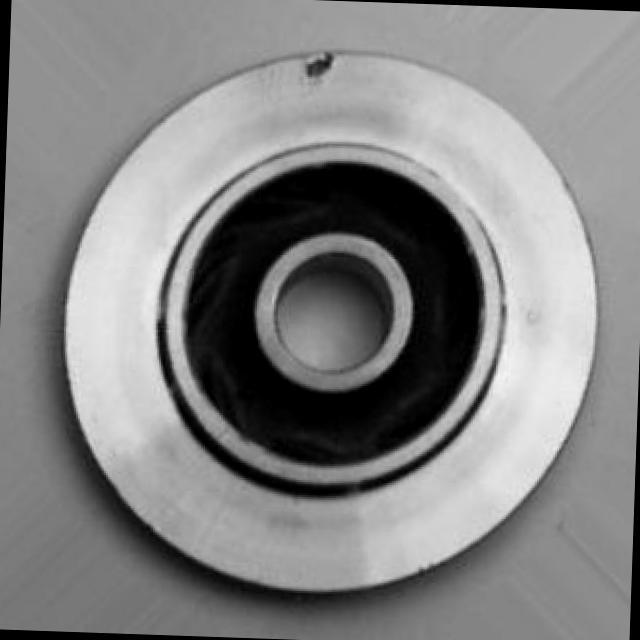Defect: (304, 49, 346, 82)
